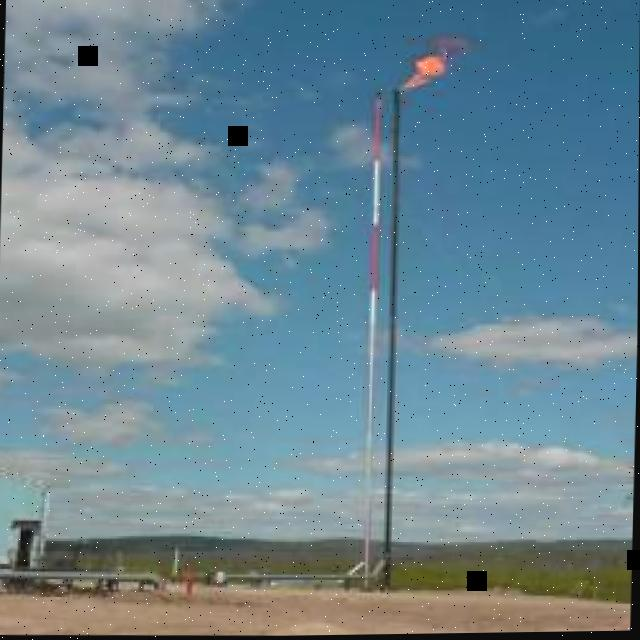fire: (398, 39, 466, 92)
